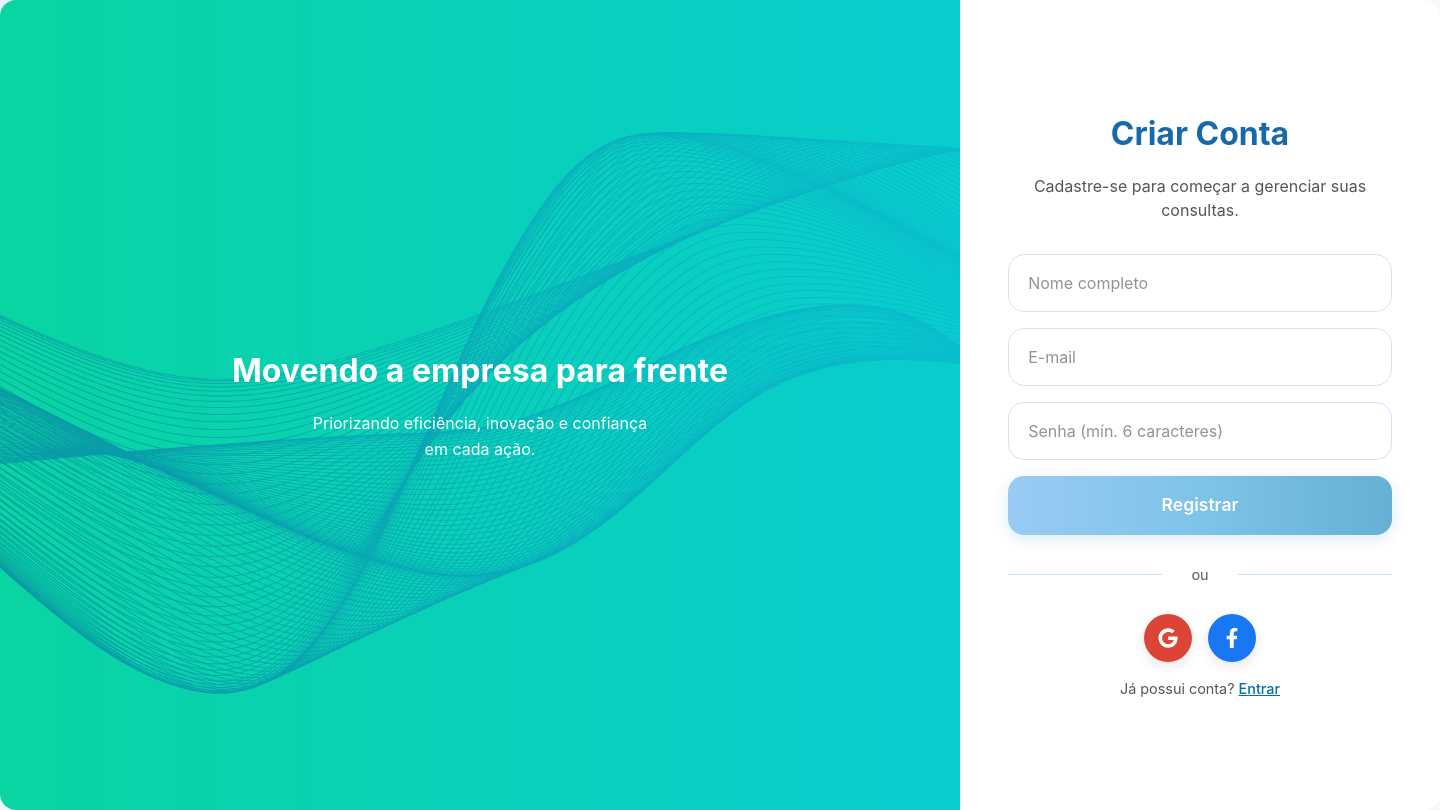
RegisterPage › keeps the primary submit action disabled until required registration data is valid
Expected: the button "Registrar" is disabled, [1008,476,1392,535]
Step 1. Type "Pessoa Teste" into the field labelled "Nome completo" → (1200, 283), box [1008,254,1392,312]
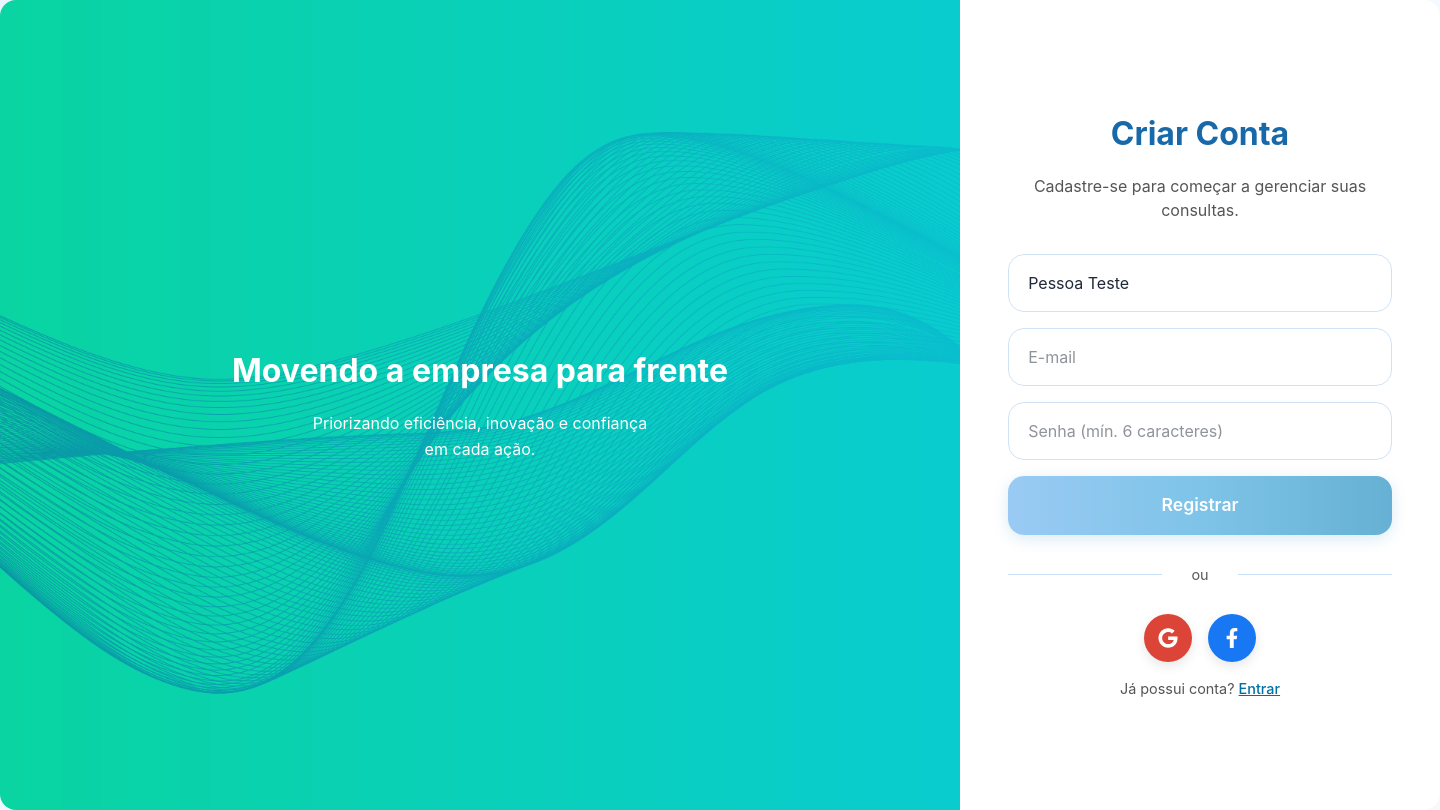
Step 2. Type "teste@example.com" into the field labelled "E-mail" → (1200, 357), box [1008,328,1392,386]
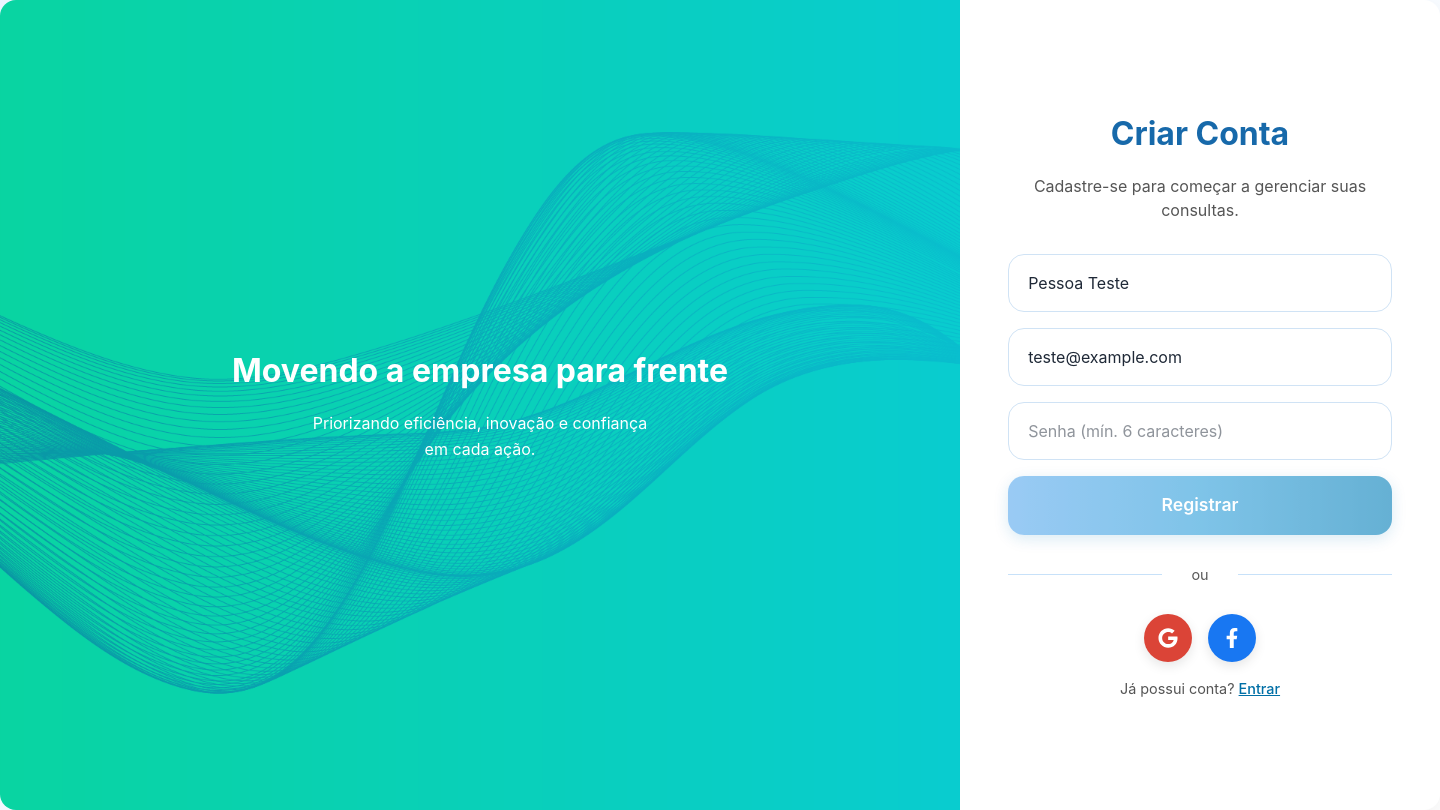
Step 3. Type "12345" into the password field labelled "Senha" → (1200, 431), box [1008,402,1392,460]
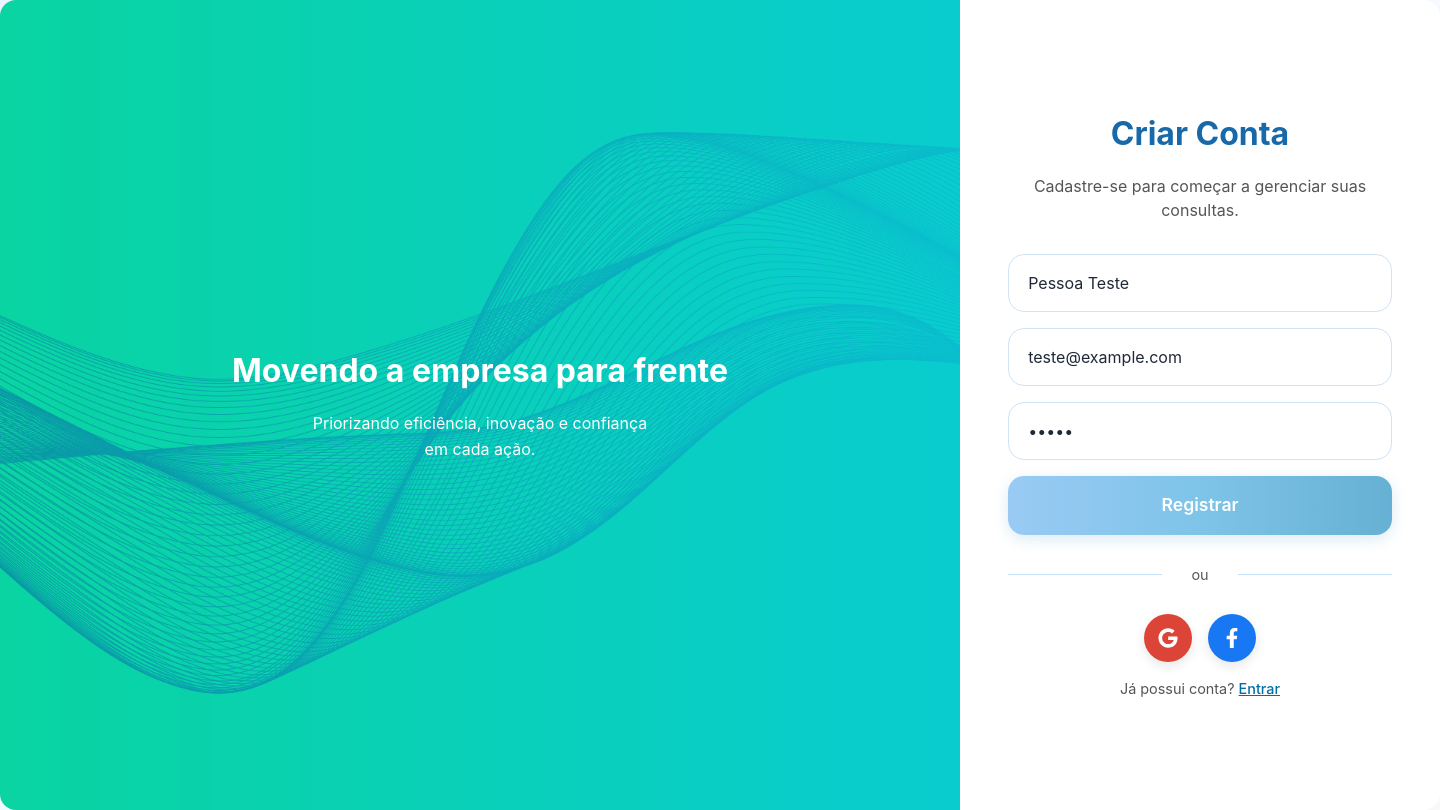
Expected: the button "Registrar" is disabled, [1008,476,1392,535]
Step 4. Type "SenhaTeste123!" into the password field named "Senha" → (1200, 431), box [1008,402,1392,460]
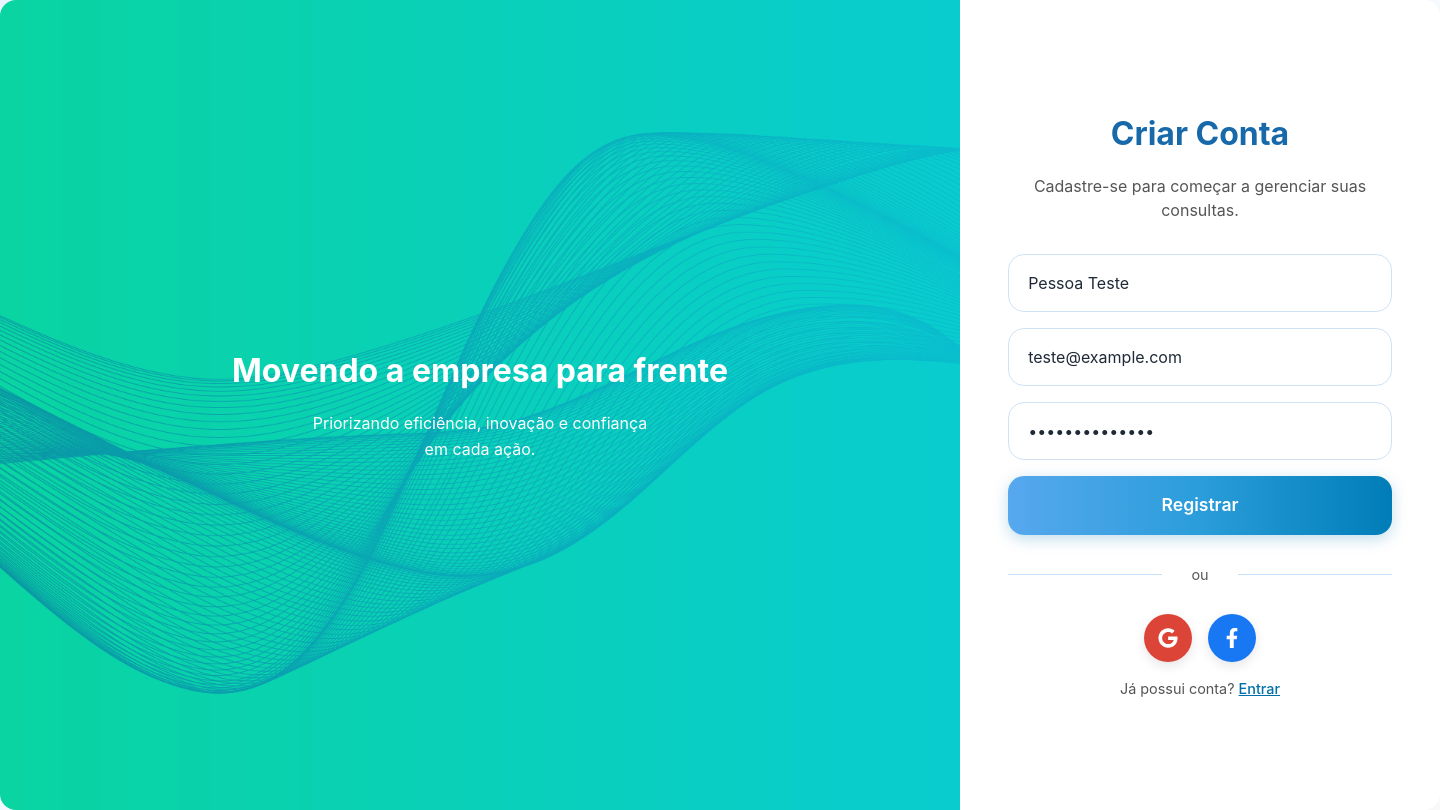
Now the button "Registrar" is enabled, box [1008,476,1392,535]
